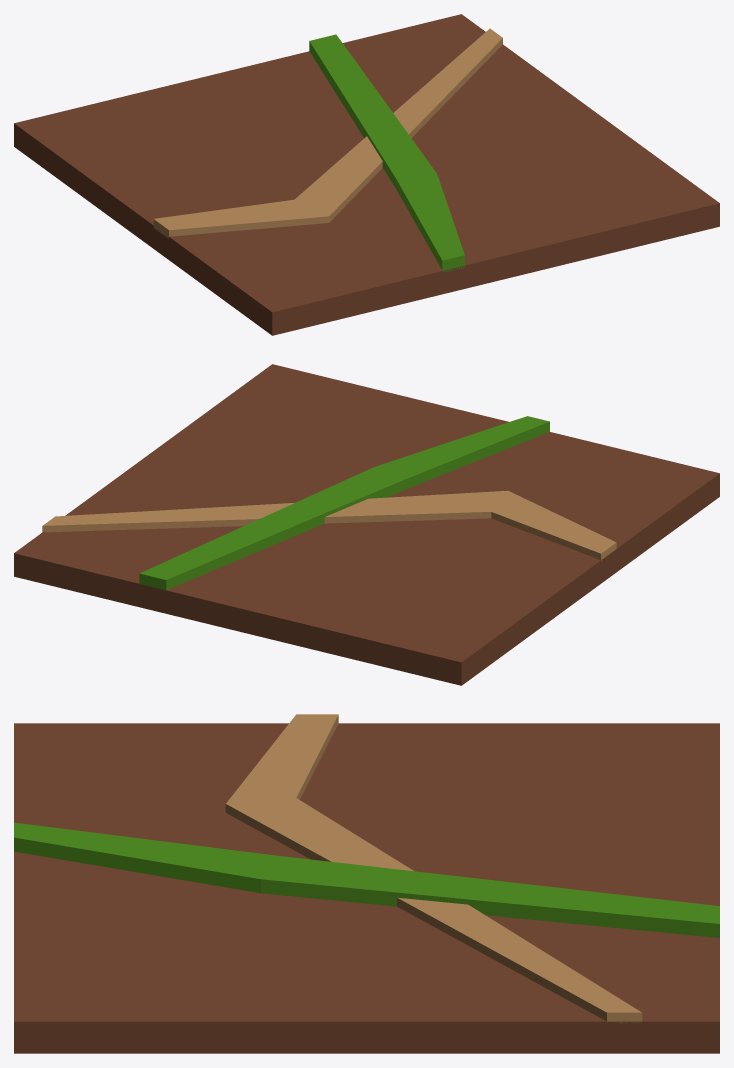
Rendered from tile-ground-infested.glb.
The picture shows the model from 3 angles, top to bottom: view 1: azimuth 30°, elevation 25°; view 2: azimuth 150°, elevation 25°; view 3: azimuth 270°, elevation 25°; orthographic projection. The views are drawn at different scales.
Parts seen in each view (by area): view 1: resin, resin_branch_0, resin_branch_1; view 2: resin, resin_branch_1, resin_branch_0; view 3: resin, resin_branch_1, resin_branch_0.
Boxes of the visible parts, bbox=[...] form: resin: bbox=[14, 14, 719, 335]; resin_branch_0: bbox=[153, 28, 502, 238]; resin_branch_1: bbox=[309, 34, 464, 272]; resin: bbox=[14, 364, 719, 685]; resin_branch_1: bbox=[139, 416, 549, 591]; resin_branch_0: bbox=[42, 490, 616, 561]; resin: bbox=[14, 723, 719, 1053]; resin_branch_1: bbox=[14, 822, 719, 937]; resin_branch_0: bbox=[225, 714, 642, 1023].
Bounding box in the file's own units: 1 × 0.072 × 1.
